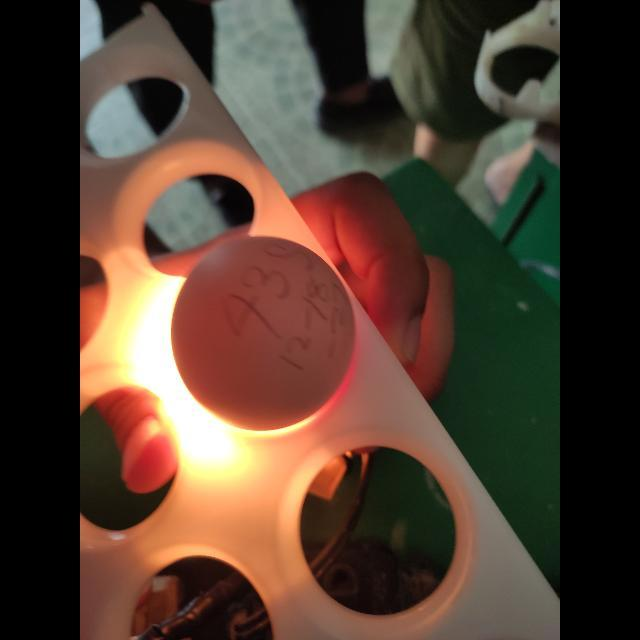Fertile: (172, 229, 354, 429)
